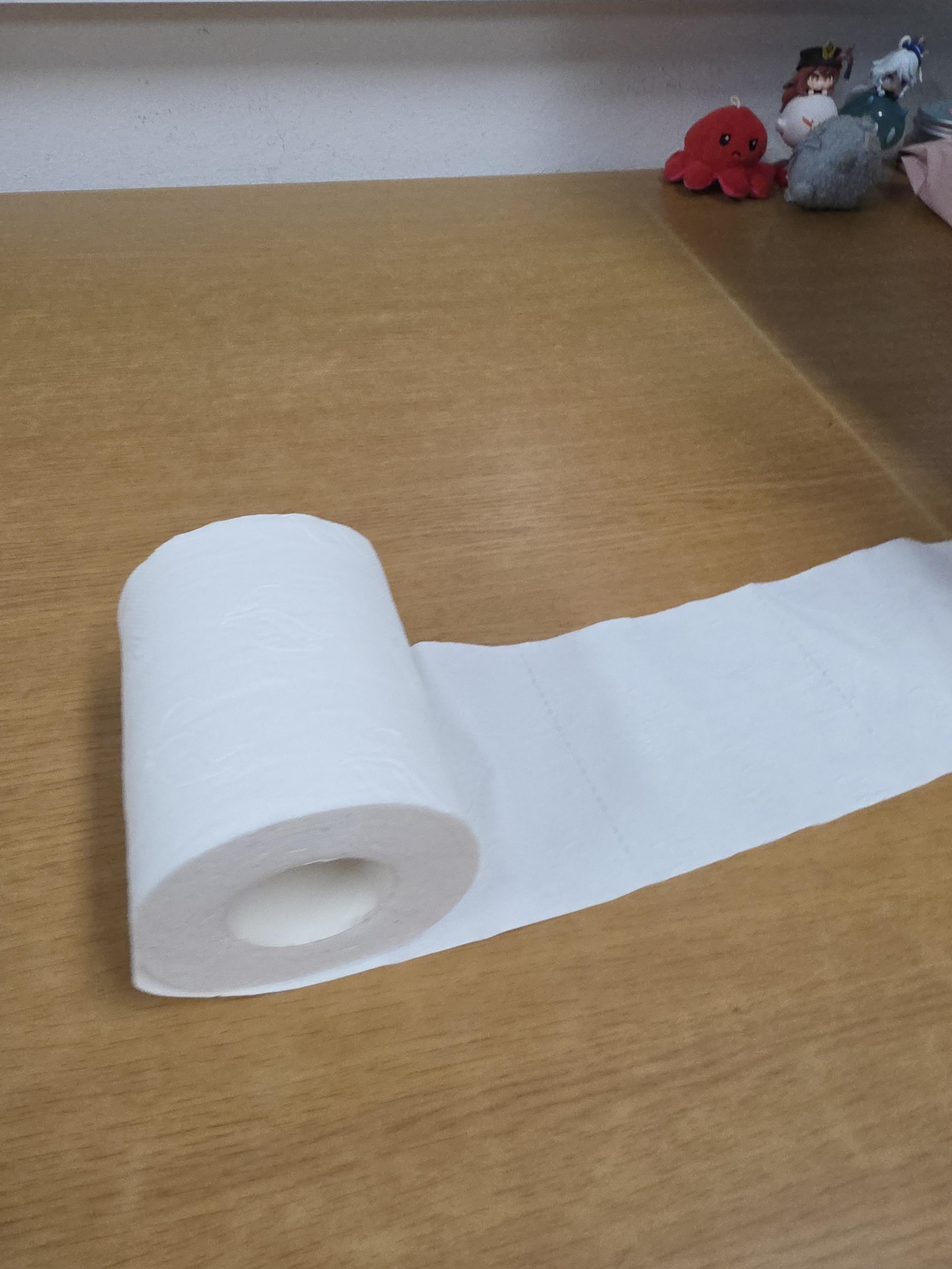tissue: (116, 512, 951, 1000)
